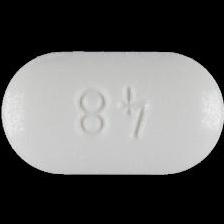45802-315: (0, 0, 224, 224)
